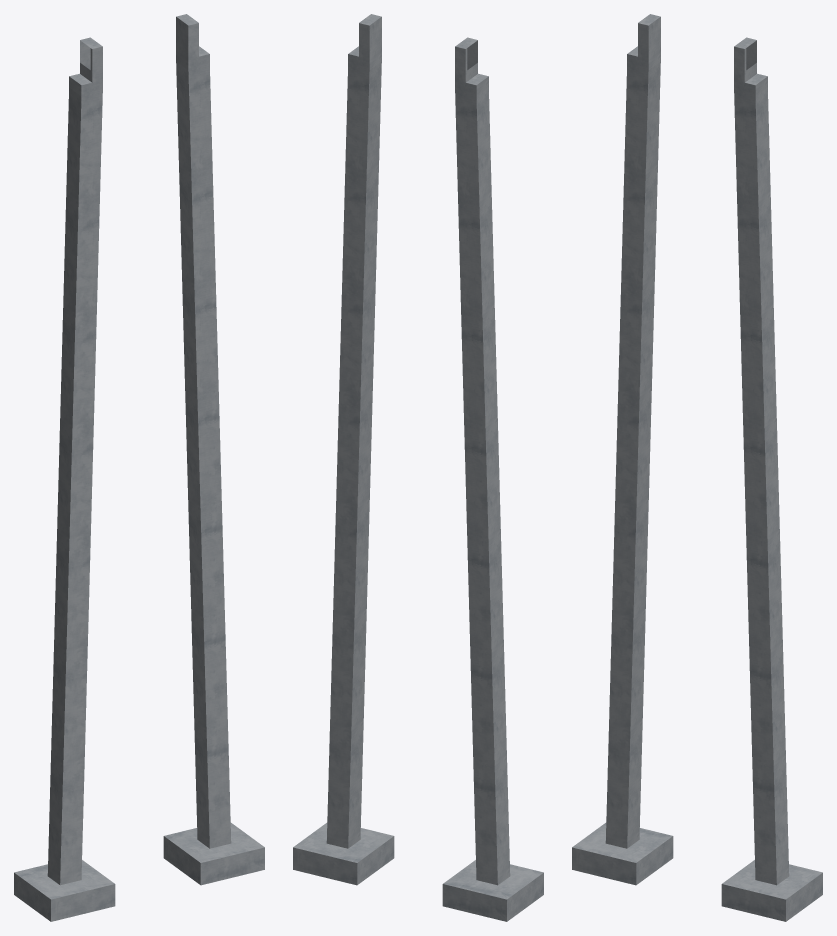
Rendered from Foundation-Standard-Sniper-Series-Mag-7-Stand.obj.
3 views of the same model, side by side, from view 1: azimuth 30°, elevation 25°; view 2: azimuth 150°, elevation 25°; view 3: azimuth 330°, elevation 25° (orthographic).
Visible parts, largest first — view 1: Foundation-Standard-Sniper-Series-Mag-7-Stand; view 2: Foundation-Standard-Sniper-Series-Mag-7-Stand; view 3: Foundation-Standard-Sniper-Series-Mag-7-Stand.
Part boxes in pixels (x1,y1,x2,y2): Foundation-Standard-Sniper-Series-Mag-7-Stand: (14,14,264,921); Foundation-Standard-Sniper-Series-Mag-7-Stand: (293,14,543,921); Foundation-Standard-Sniper-Series-Mag-7-Stand: (572,14,822,921).
Size of the model in its own units: 2 by 7.6 by 0.6.
